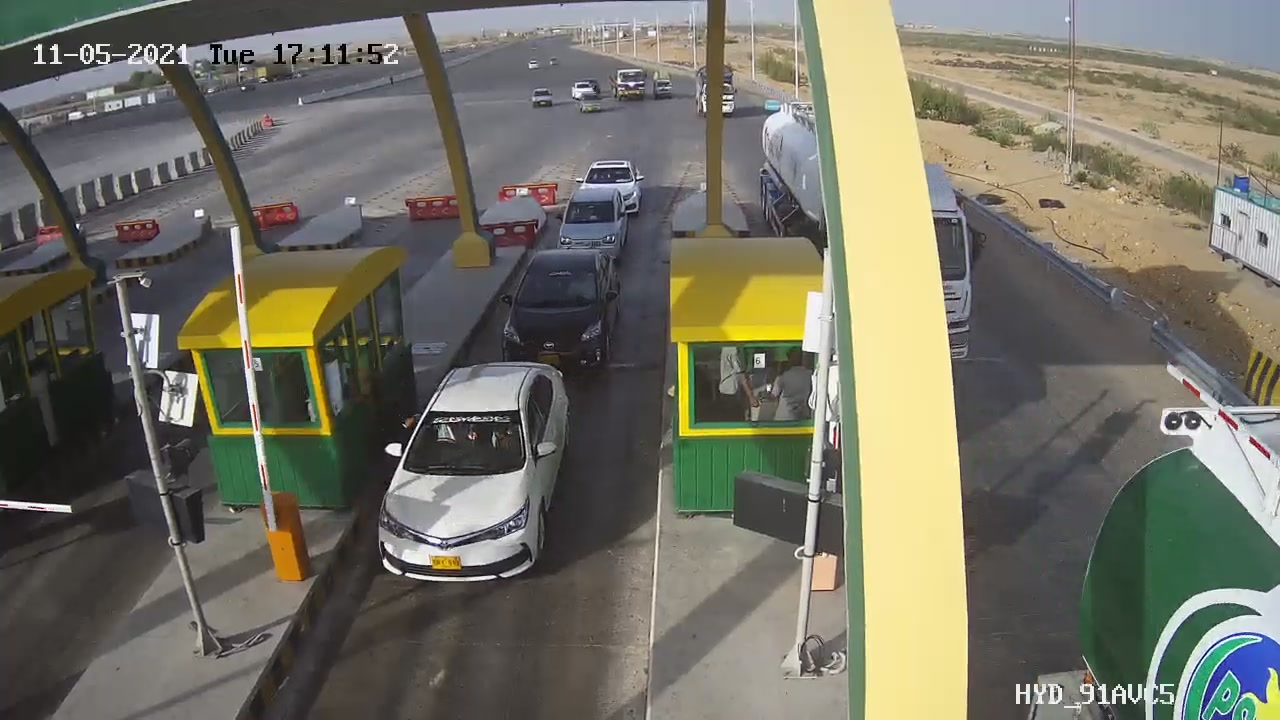F1: (351, 346, 594, 604), (481, 235, 629, 392), (540, 175, 638, 272)
